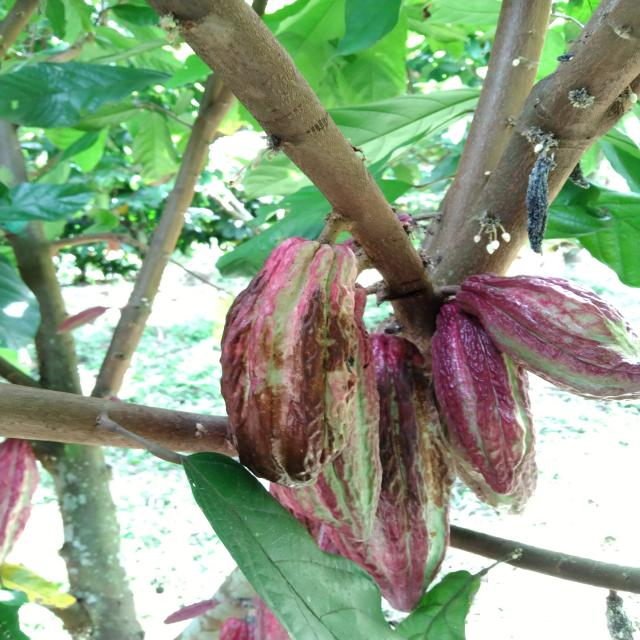Fitoftora: (216, 238, 370, 490), (328, 330, 450, 620)
Monilia: (520, 160, 556, 254)
Sana: (454, 272, 640, 402), (422, 301, 530, 495)
